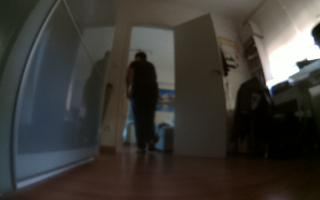person: (123, 48, 163, 159)
